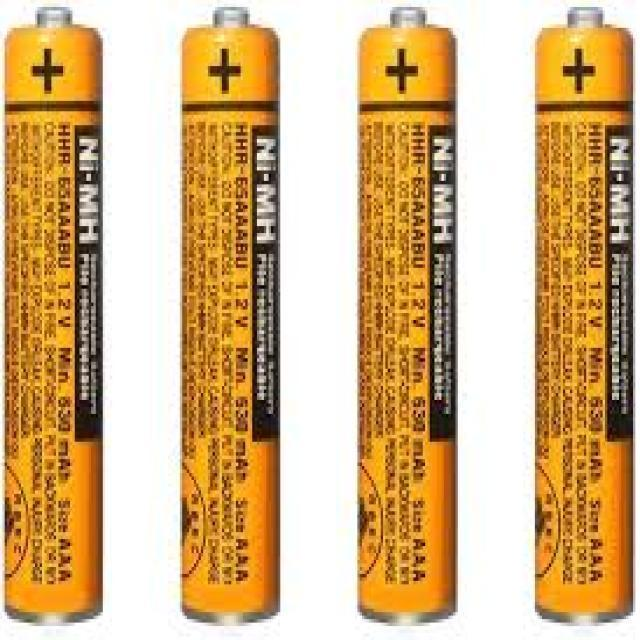AAA: (532, 5, 634, 624), (179, 5, 280, 624), (356, 5, 457, 624), (3, 5, 104, 623)
